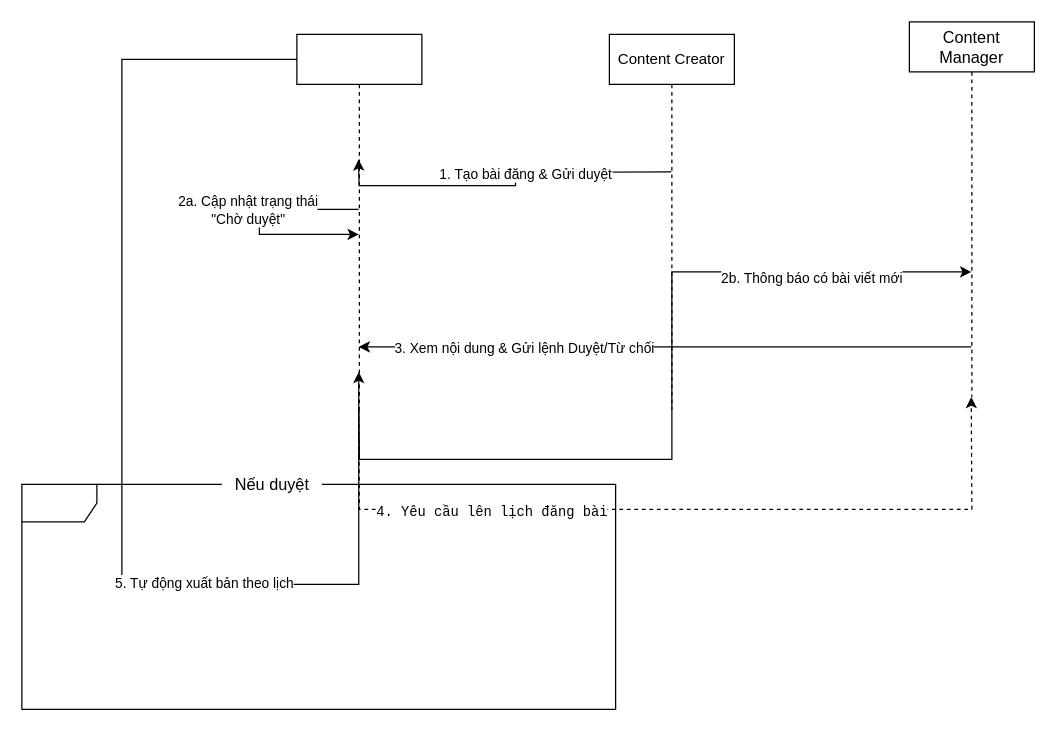
Image size: 1056x731. Some labels were removed from this diagram. The box of each missing label's shape, as (x1, y1, x2, y2) in pixels:
alt: (21, 483, 616, 709)
Hệ thống: (296, 33, 422, 409)
